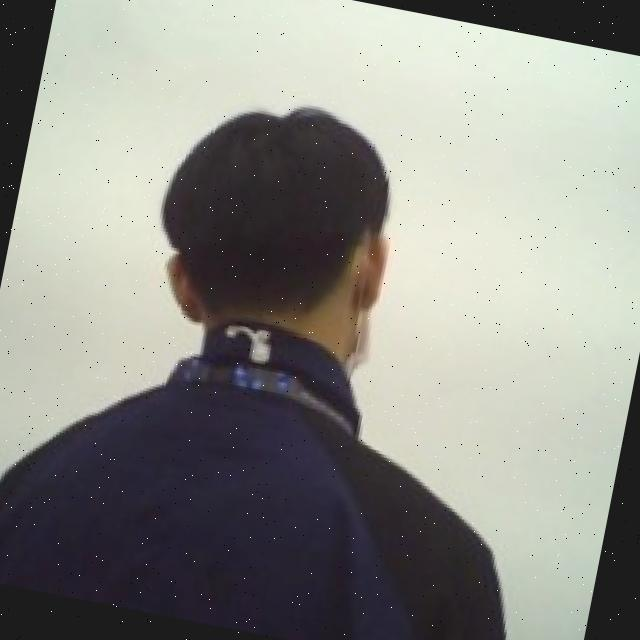no_gloves: (141, 74, 424, 356)
